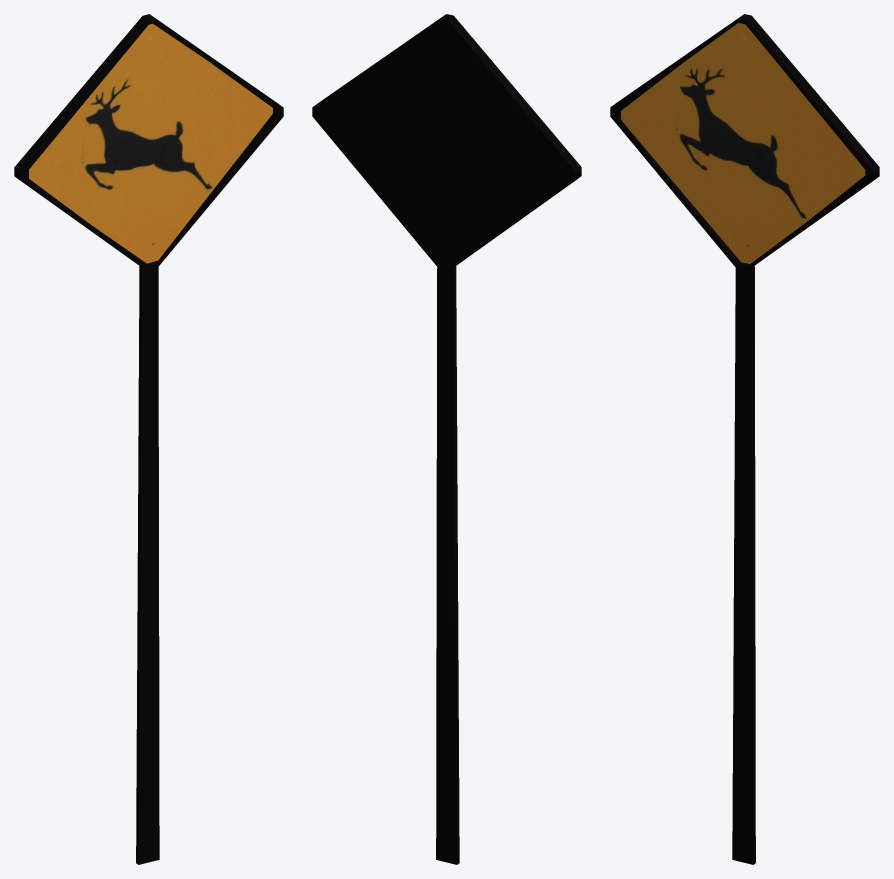
File: objSignal.obj
3 renders of one model, left to right at view 1: azimuth 30°, elevation 25°; view 2: azimuth 150°, elevation 25°; view 3: azimuth 330°, elevation 25°, orthographic.
Parts seen in each view (by area): view 1: Signal; view 2: Signal; view 3: Signal.
Part boxes in pixels (box(x1,y1,x2,y2)): Signal: box(14, 14, 283, 864); Signal: box(312, 14, 581, 864); Signal: box(610, 14, 879, 864).
Bounding box in the file's own units: 2.04 × 6.25 × 0.0854.
